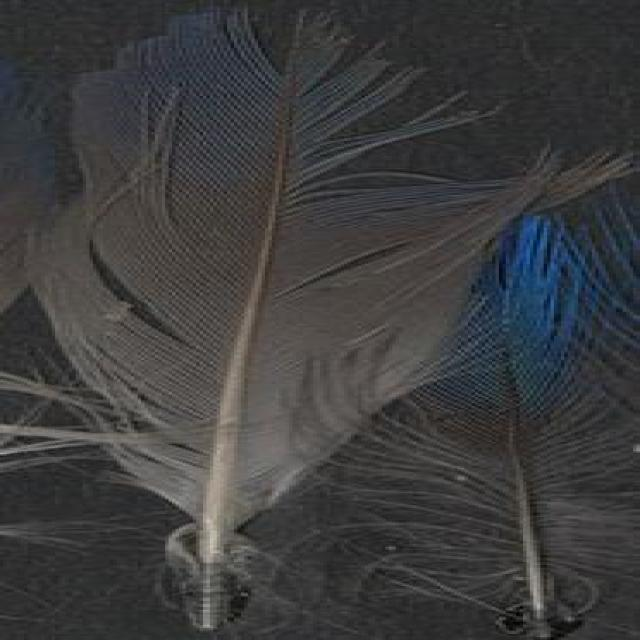feather: (24, 8, 640, 630), (330, 204, 640, 640)
